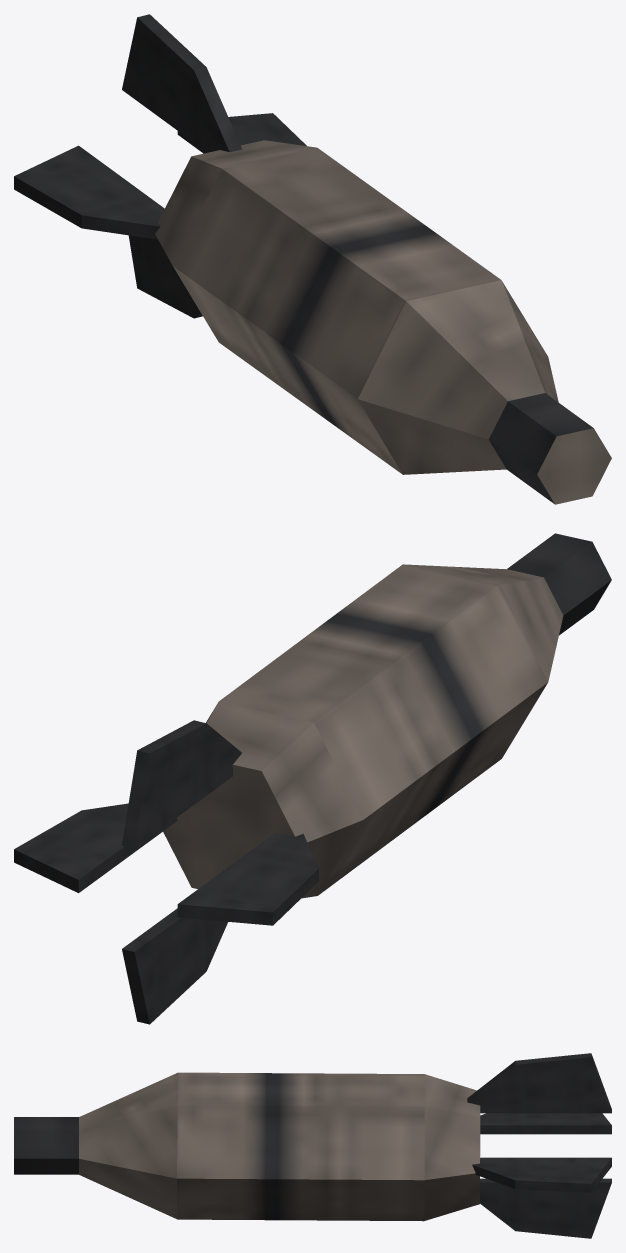
Rendered from t_bullet_cannon01.fbx.
3 views of the same model, one above another, from view 1: azimuth 30°, elevation 25°; view 2: azimuth 150°, elevation 25°; view 3: azimuth 270°, elevation 25° (orthographic). The views are drawn at different scales.
Parts seen in each view (by area): view 1: polySurface1386, pCube58, pCube59, pCube60, pCube61; view 2: polySurface1386, pCube58, pCube59, pCube60, pCube61; view 3: polySurface1386, pCube58, pCube60, pCube61, pCube59.
Part boxes in pixels (box(x1,y1,x2,y2)): polySurface1386: box(155, 140, 611, 504); pCube58: box(122, 14, 242, 152); pCube59: box(14, 145, 164, 239); pCube60: box(128, 235, 202, 318); pCube61: box(177, 113, 306, 153); polySurface1386: box(163, 533, 611, 898); pCube58: box(122, 720, 241, 848); pCube59: box(177, 832, 318, 925); pCube60: box(122, 908, 227, 1024); pCube61: box(14, 803, 177, 893); polySurface1386: box(14, 1072, 480, 1221); pCube58: box(467, 1053, 611, 1113); pCube60: box(480, 1178, 611, 1238); pCube61: box(472, 1157, 611, 1192); pCube59: box(480, 1113, 611, 1134).
Bounding box in the file's own units: 0.0577 × 0.0577 × 0.1723.
